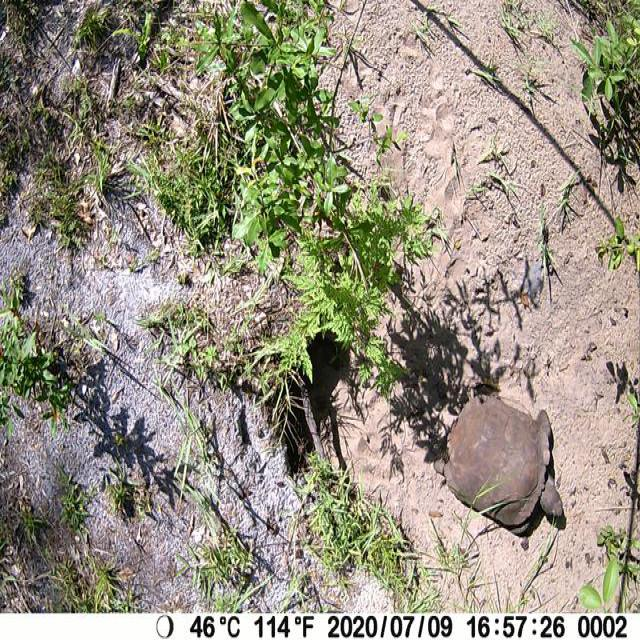tortoise: (432, 391, 565, 537)
